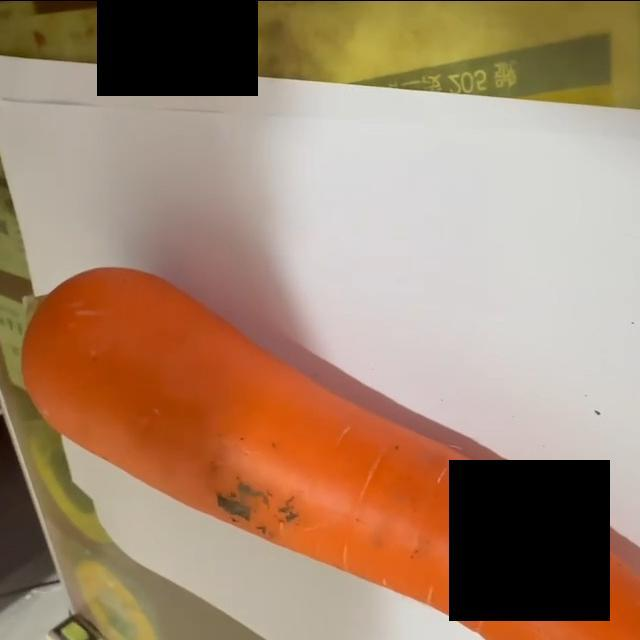carrot: (19, 265, 640, 640)
